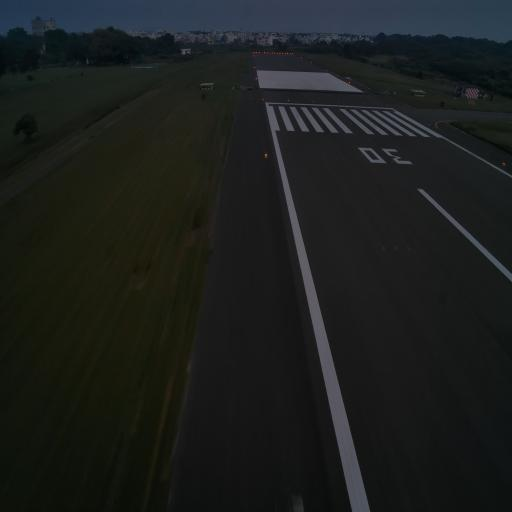off: (381, 243, 386, 254), (393, 244, 399, 253), (408, 244, 412, 253)
on: (501, 160, 506, 169), (264, 152, 268, 159)
